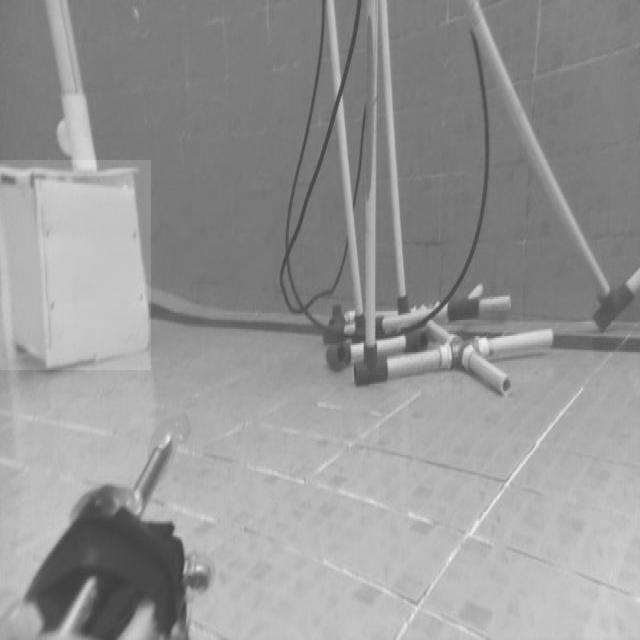Cube: (0, 160, 151, 370)
